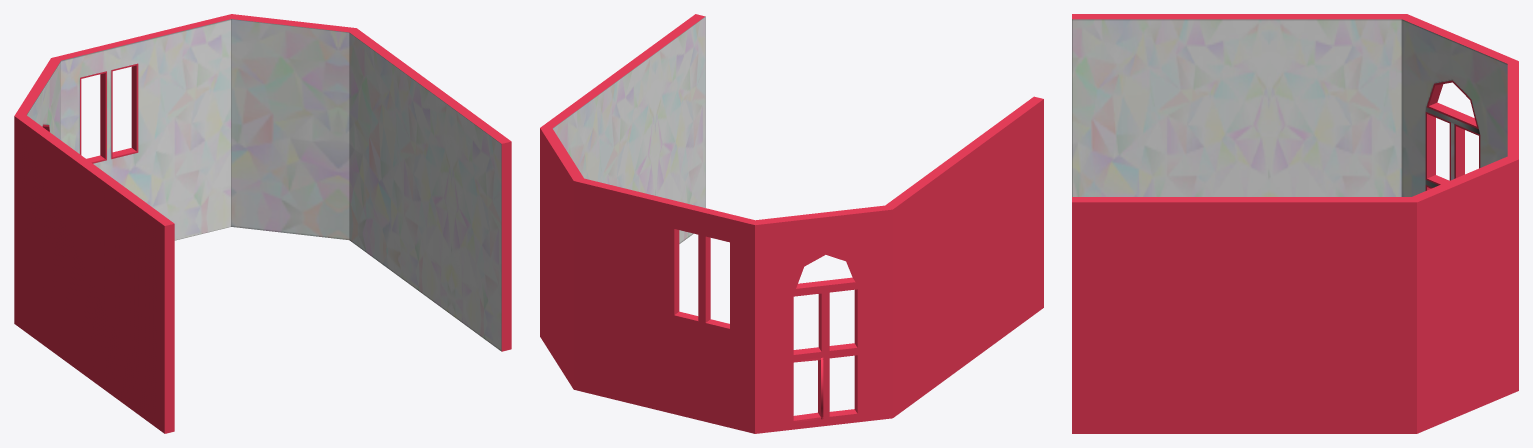
File: p_duvar.obj
3 views of the same model, side by side, from view 1: azimuth 30°, elevation 25°; view 2: azimuth 150°, elevation 25°; view 3: azimuth 270°, elevation 25° (orthographic). The views are drawn at different scales.
Visible parts, largest first — view 1: Cube.121_wall_pembe, Cube.121_m_koyupembe; view 2: Cube.121_m_koyupembe, Cube.121_wall_pembe; view 3: Cube.121_m_koyupembe, Cube.121_wall_pembe.
Part boxes in pixels (<box>): Cube.121_wall_pembe: <box>27,19,501,351</box>; Cube.121_m_koyupembe: <box>14,14,511,433</box>; Cube.121_m_koyupembe: <box>540,14,1043,433</box>; Cube.121_wall_pembe: <box>552,16,705,243</box>; Cube.121_m_koyupembe: <box>1072,14,1518,433</box>; Cube.121_wall_pembe: <box>1072,19,1507,196</box>.
Size of the model in its own units: 68.08 by 38.99 by 68.21.
